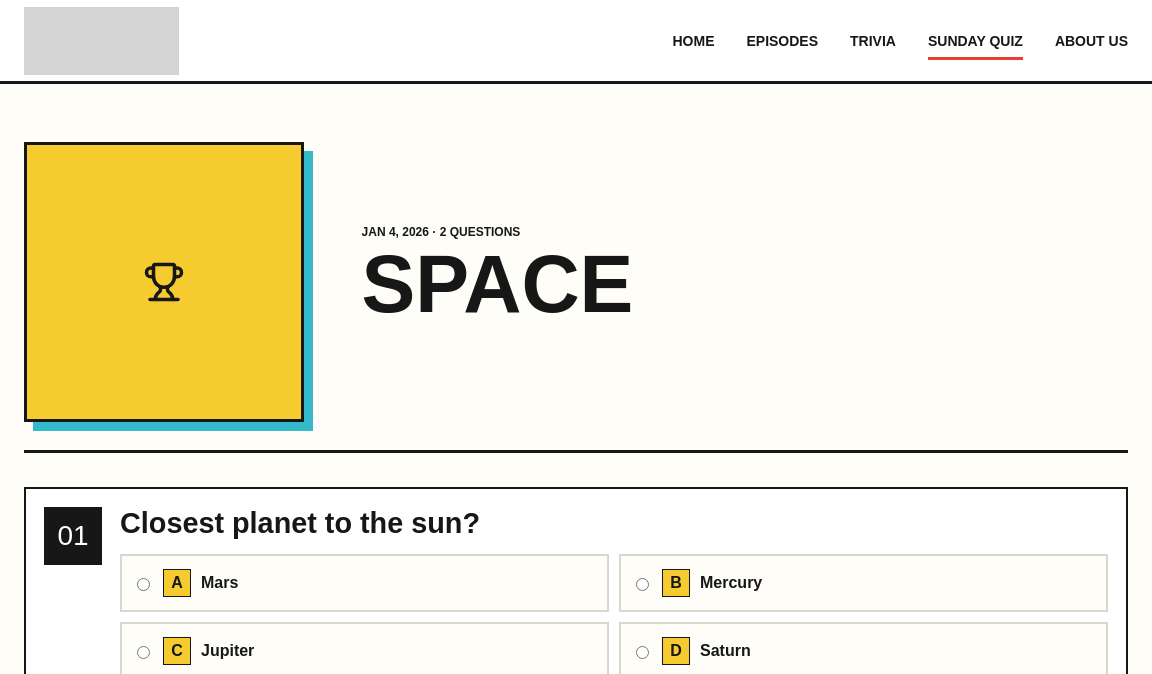
Scenario: public experience › plays a Sunday Quiz and reveals the answer review only after submit
The image size is (1152, 674).
Check: the heading "Space" is shown, box x1=362 y1=238 x2=633 y2=328
Check: the text "It was published first." is not shown
Click the radio button labelled "B Mercury".
click(642, 584)  # box x1=636 y1=578 x2=649 y2=591
(page scrolled)
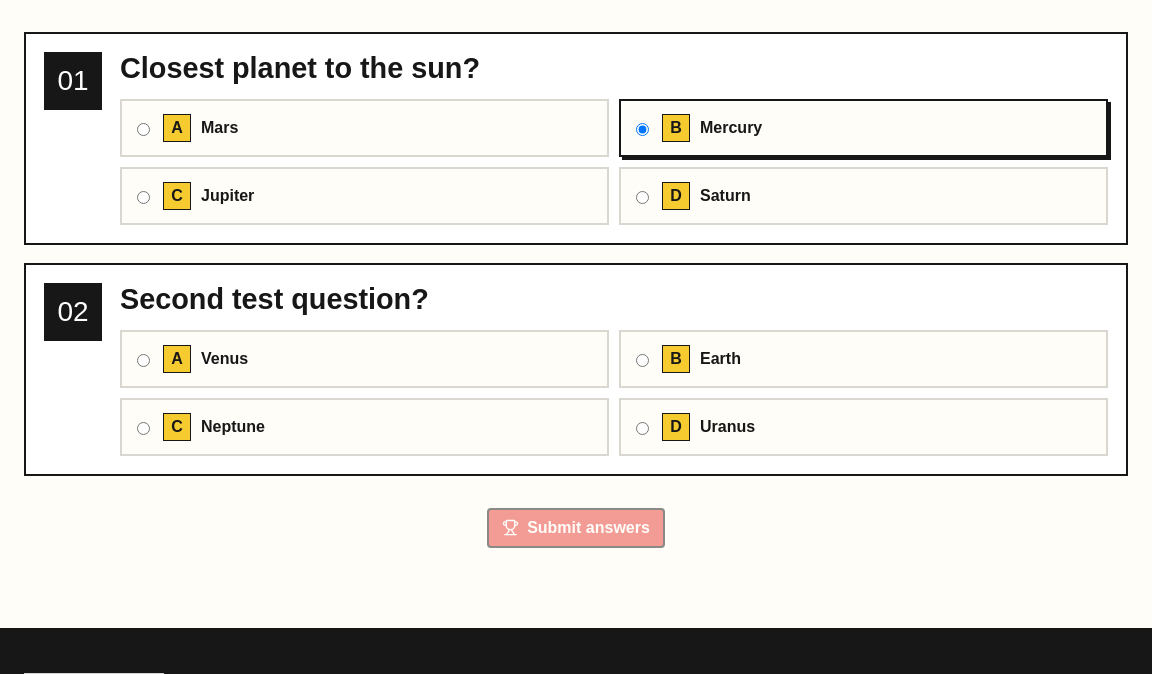
Click the radio button labelled "A Venus".
click(144, 360)  # box x1=137 y1=354 x2=150 y2=367
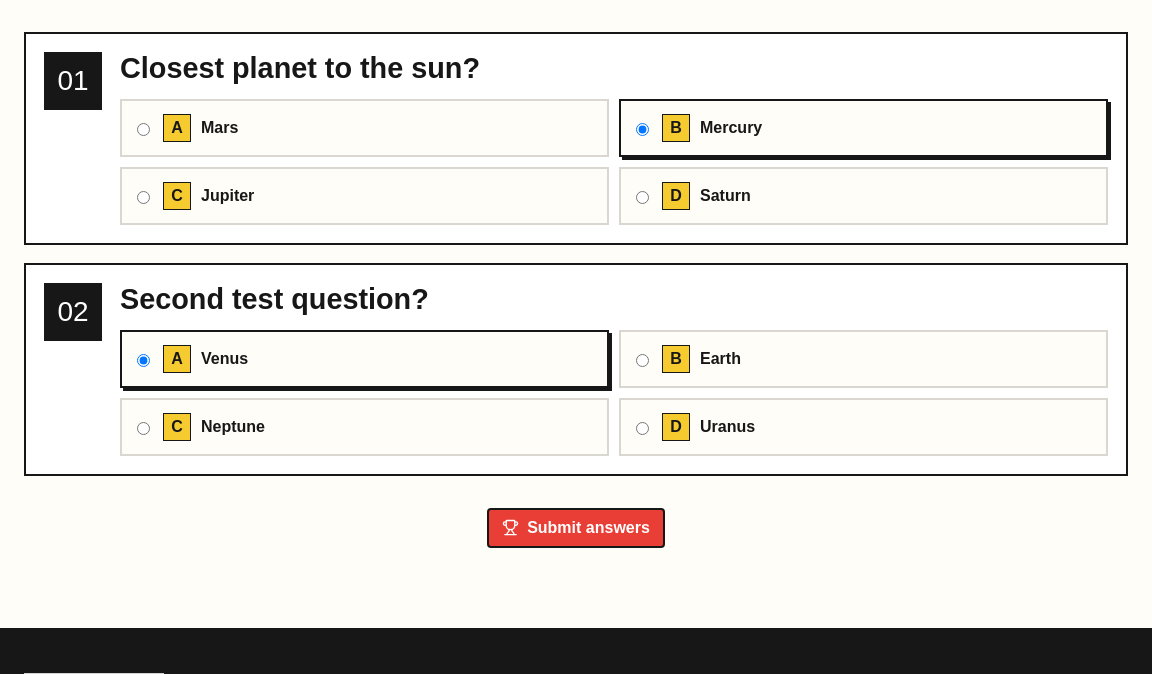
Click the button "Submit answers".
click(576, 528)  # box x1=487 y1=508 x2=665 y2=548
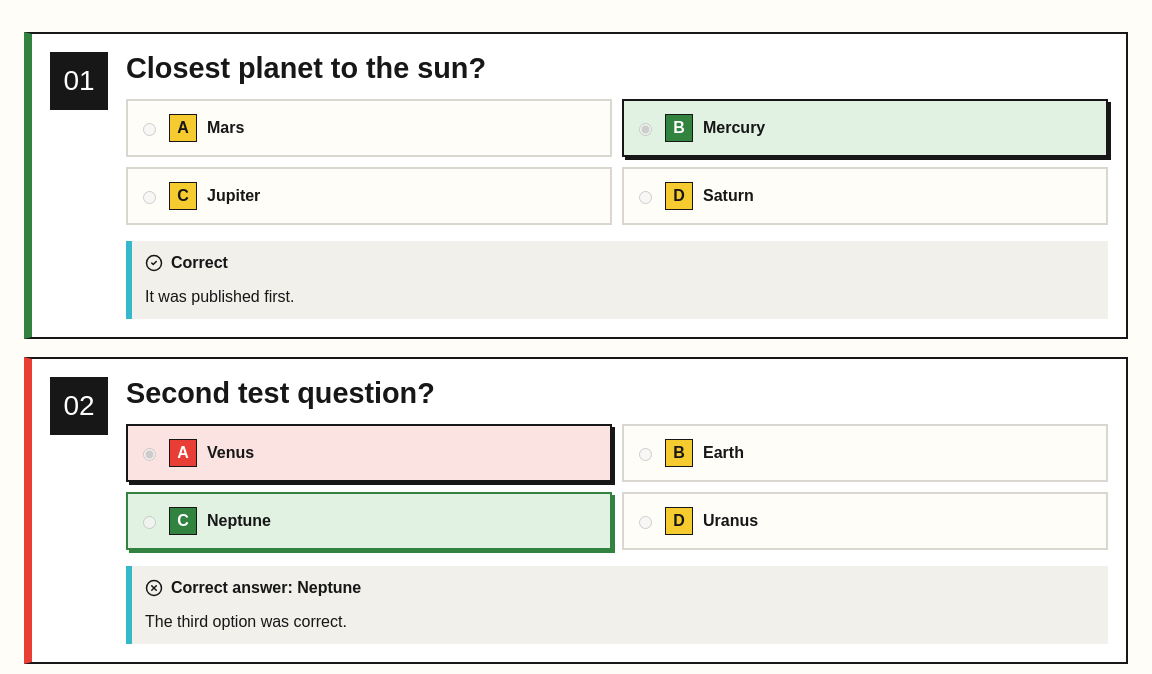
Check: the text "It was published first." is shown, box x1=145 y1=288 x2=294 y2=305
Check: the text "Correct answer: Neptune" is shown, box x1=145 y1=579 x2=361 y2=597
